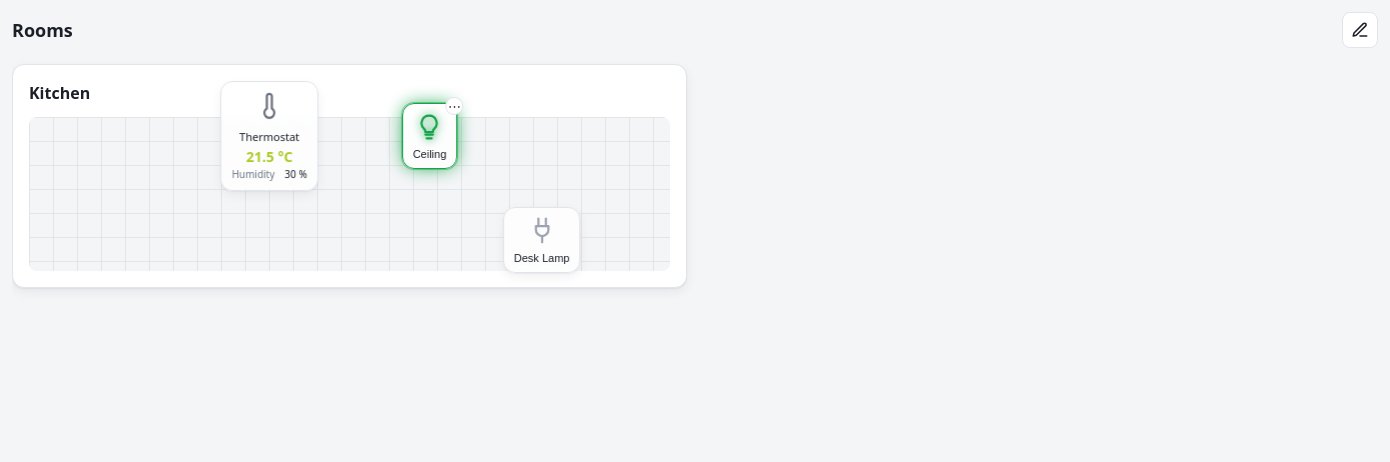
it: RoomsFloorPlan › keeps a placed device in place when clearing it fails
This screenshot has width=1390, height=462.
Expected: the heading "Kitchen" is shown, [29,81,90,105]
Click the button named "Edit layout": (1360, 30) [1342,12,1378,48]
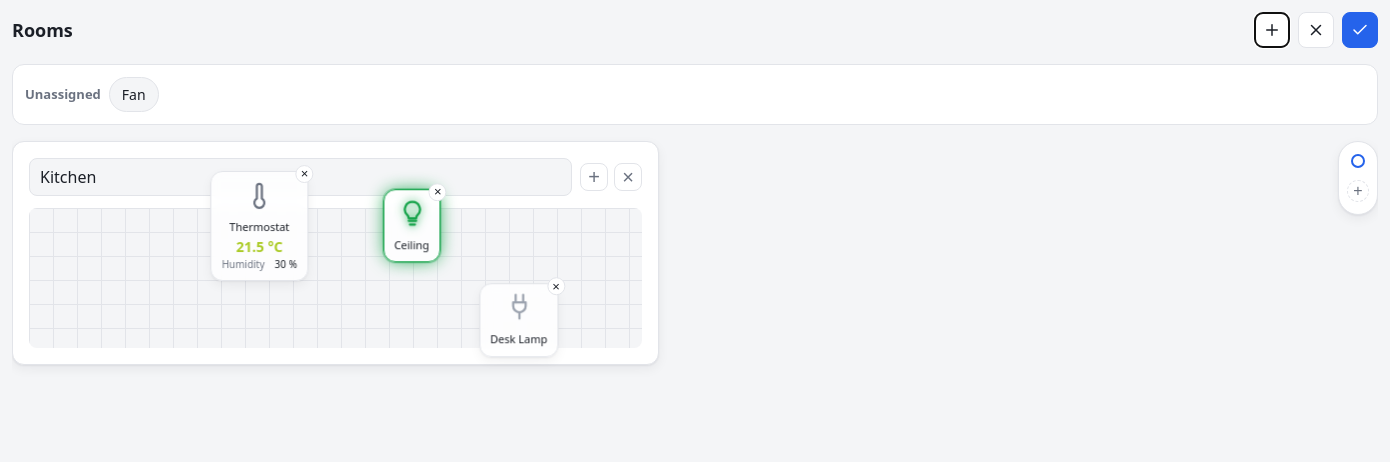
Click the button named "Remove Desk Lamp from Kitchen": (556, 286) [547,277,565,295]
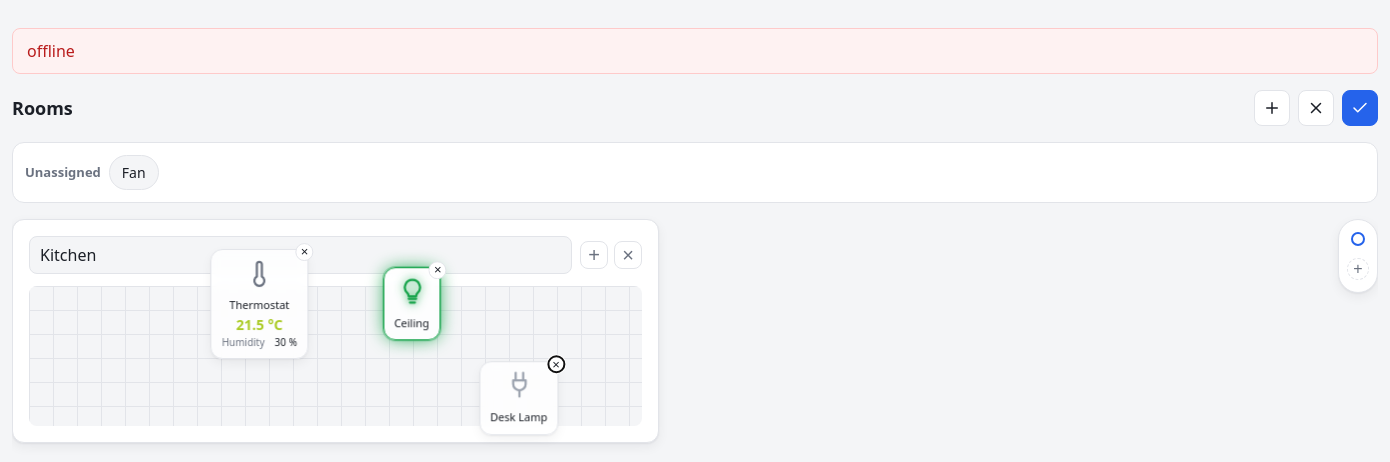
Expected: the message "offline" is shown, [12,28,1378,74]
